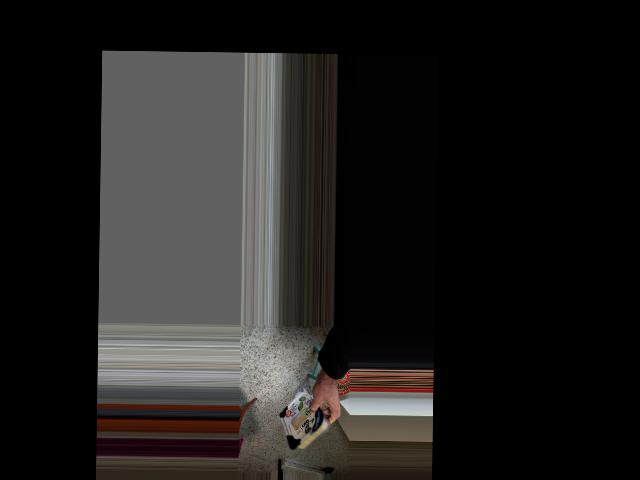cheese: (271, 394, 346, 450)
